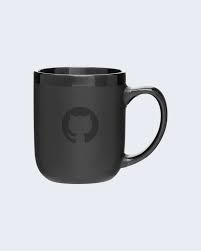mug: (26, 58, 182, 204)
